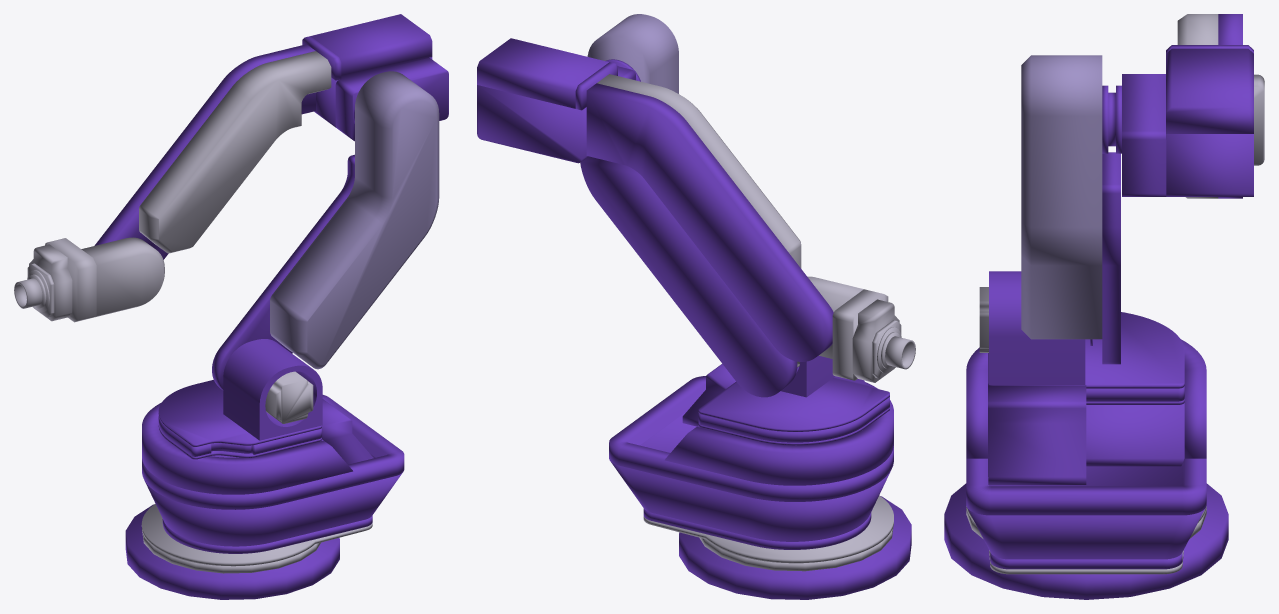
The model's file is armbot.glb.
3 renders of one model, left to right at view 1: azimuth 30°, elevation 25°; view 2: azimuth 150°, elevation 25°; view 3: azimuth 270°, elevation 25°, orthographic. The views are drawn at different scales.
Parts seen in each view (by area): view 1: Cube.783, Cube.777, Cylinder.783, Cylinder.782, Cylinder.780, Cube.786, Cylinder.784, Cylinder.774, Cube.781, Cube.776, Cube.778, Cube.784 (+12 smaller); view 2: Cube.778, Cube.784, Cylinder.783, Cylinder.782, Cylinder.784, Cylinder.780, Cylinder.774, Cube.780, Cube.781, Cube.777, Cube.783, Cylinder.776 (+10 smaller); view 3: Cube.783, Cylinder.784, Cylinder.775, Cylinder.783, Cylinder.780, Cube.781, Cube.786, Cylinder.781, Cylinder.774, Cube.780, Cube.782, Cylinder.782 (+9 smaller).
Part boxes in pixels (x1=…): Cube.783: x1=270, y1=71, x2=439, y2=369; Cube.777: x1=139, y1=51, x2=331, y2=253; Cylinder.783: x1=145, y1=472, x2=402, y2=546; Cylinder.782: x1=142, y1=403, x2=352, y2=494; Cylinder.780: x1=125, y1=504, x2=339, y2=599; Cube.786: x1=223, y1=339, x2=322, y2=440; Cylinder.784: x1=142, y1=395, x2=404, y2=509; Cylinder.774: x1=158, y1=380, x2=321, y2=459; Cube.781: x1=310, y1=14, x2=432, y2=78; Cube.776: x1=81, y1=237, x2=164, y2=317; Cube.778: x1=94, y1=44, x2=315, y2=259; Cube.784: x1=212, y1=154, x2=354, y2=390; Cube.778: x1=586, y1=83, x2=833, y2=361; Cube.784: x1=580, y1=156, x2=797, y2=397; Cylinder.783: x1=611, y1=462, x2=890, y2=541; Cylinder.782: x1=664, y1=382, x2=893, y2=485; Cylinder.784: x1=609, y1=376, x2=893, y2=501; Cylinder.780: x1=679, y1=496, x2=911, y2=599; Cylinder.774: x1=698, y1=376, x2=889, y2=445; Cube.780: x1=477, y1=85, x2=588, y2=163; Cube.781: x1=477, y1=38, x2=608, y2=108; Cube.777: x1=597, y1=74, x2=801, y2=268; Cube.783: x1=587, y1=14, x2=678, y2=93; Cylinder.776: x1=643, y1=495, x2=893, y2=563; Cube.783: x1=1021, y1=55, x2=1102, y2=339; Cylinder.784: x1=966, y1=458, x2=1206, y2=515; Cylinder.775: x1=988, y1=385, x2=1086, y2=484; Cylinder.783: x1=967, y1=508, x2=1205, y2=559; Cylinder.780: x1=944, y1=483, x2=1228, y2=599; Cube.781: x1=1166, y1=48, x2=1253, y2=133; Cube.786: x1=989, y1=271, x2=1085, y2=384; Cylinder.781: x1=1086, y1=403, x2=1184, y2=466; Cylinder.774: x1=988, y1=312, x2=1184, y2=404; Cube.780: x1=1166, y1=134, x2=1253, y2=196; Cube.782: x1=1122, y1=74, x2=1166, y2=196; Cylinder.782: x1=966, y1=339, x2=1206, y2=458.
Size of the model in its own units: 1.62 by 1.76 by 0.8789.
